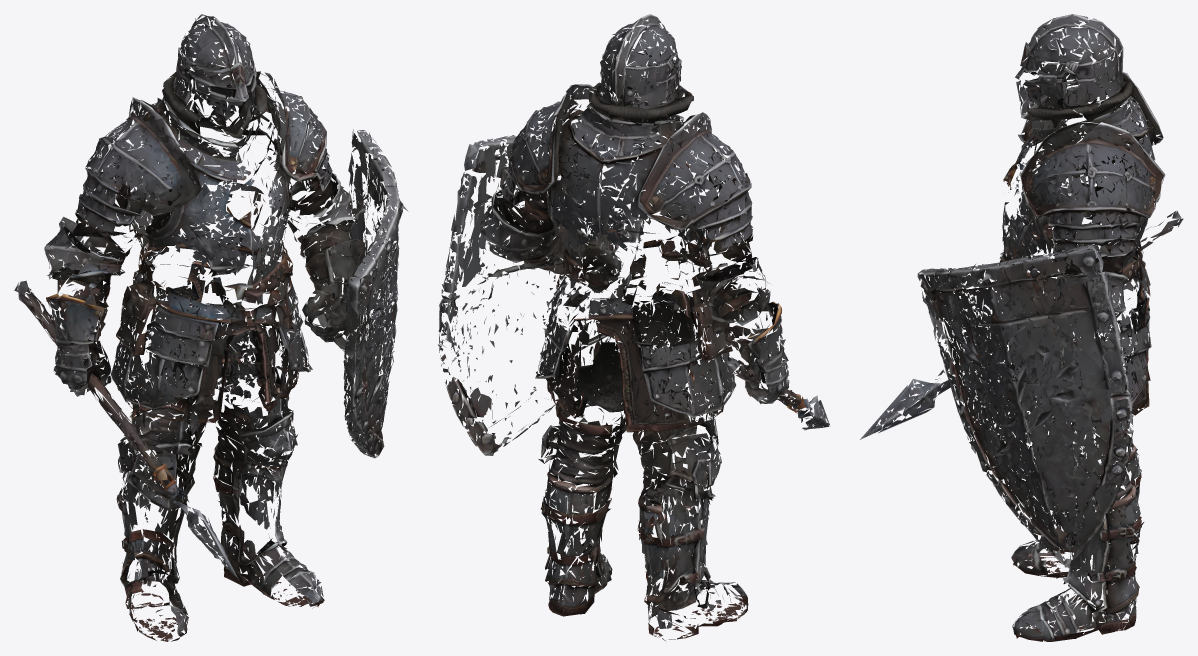
File: iron_hero.glb
The picture shows the model from 3 angles, left to right: view 1: azimuth 30°, elevation 25°; view 2: azimuth 150°, elevation 25°; view 3: azimuth 270°, elevation 25°; orthographic projection.
Parts seen in each view (by area): view 1: tripo_node_a76b2908-b3af-4049-985b-8728f68c1ca5; view 2: tripo_node_a76b2908-b3af-4049-985b-8728f68c1ca5; view 3: tripo_node_a76b2908-b3af-4049-985b-8728f68c1ca5.
Part boxes in pixels (x1=…): tripo_node_a76b2908-b3af-4049-985b-8728f68c1ca5: x1=14, y1=14, x2=408, y2=641; tripo_node_a76b2908-b3af-4049-985b-8728f68c1ca5: x1=438, y1=14, x2=829, y2=640; tripo_node_a76b2908-b3af-4049-985b-8728f68c1ca5: x1=860, y1=14, x2=1183, y2=641.
Bounding box in the file's own units: 1.21 × 2.08 × 1.04.
1 material, 1 textured.
